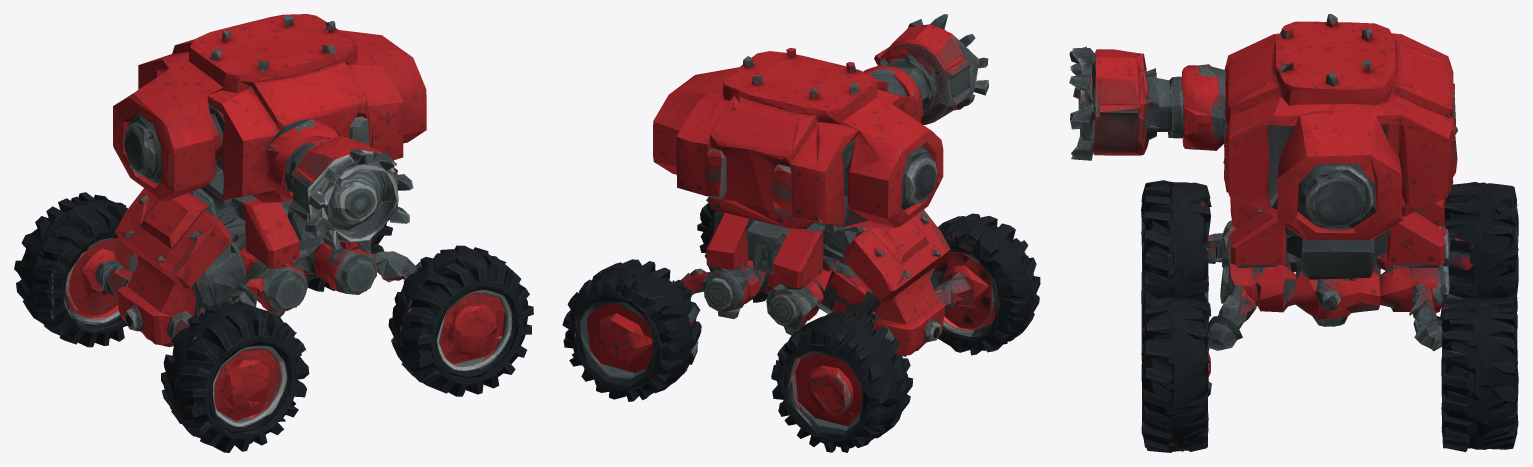
Rendered from red_disc.glb.
3 renders of one model, left to right at view 1: azimuth 30°, elevation 25°; view 2: azimuth 150°, elevation 25°; view 3: azimuth 270°, elevation 25°, orthographic. The views are drawn at different scales.
Size of the model in its own units: 1.81 by 1.59 by 1.9.
Materials: 1 (1 with a texture image).
